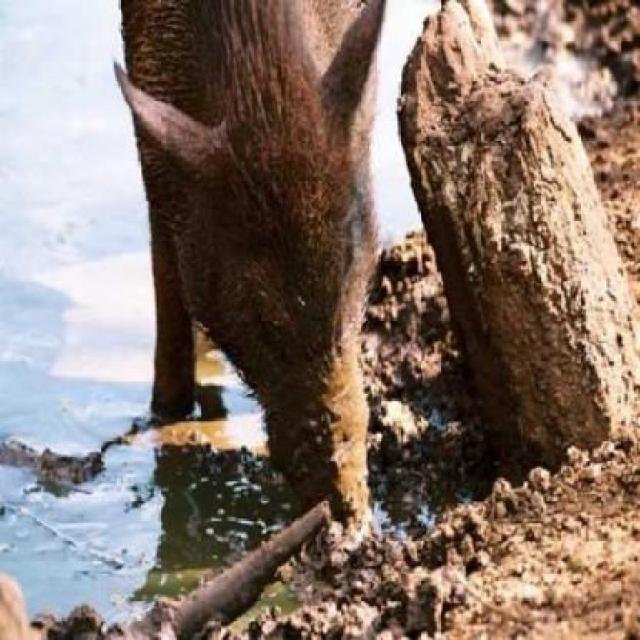pig: (92, 0, 395, 535)
